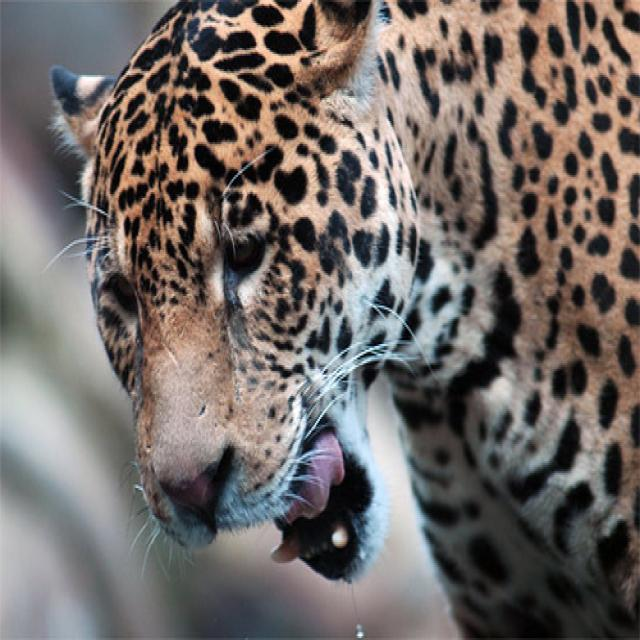Leopard: (37, 0, 638, 636)
